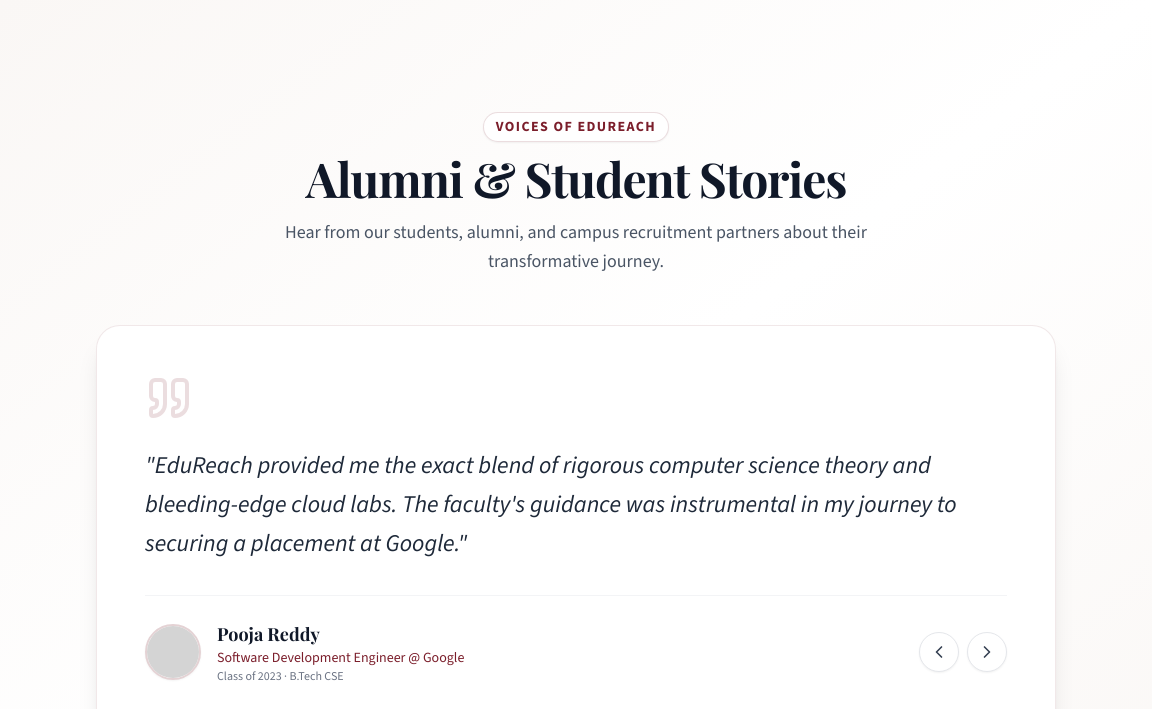
Test: QuotesSection › allows manual navigation via next and prev buttons
Check: the heading "Pooja Reddy" is shown, box [217,622,320,646]
Click the button named "Next testimonial". click: [987, 652]
box: [967,632,1007,672]
Wait 150 ms
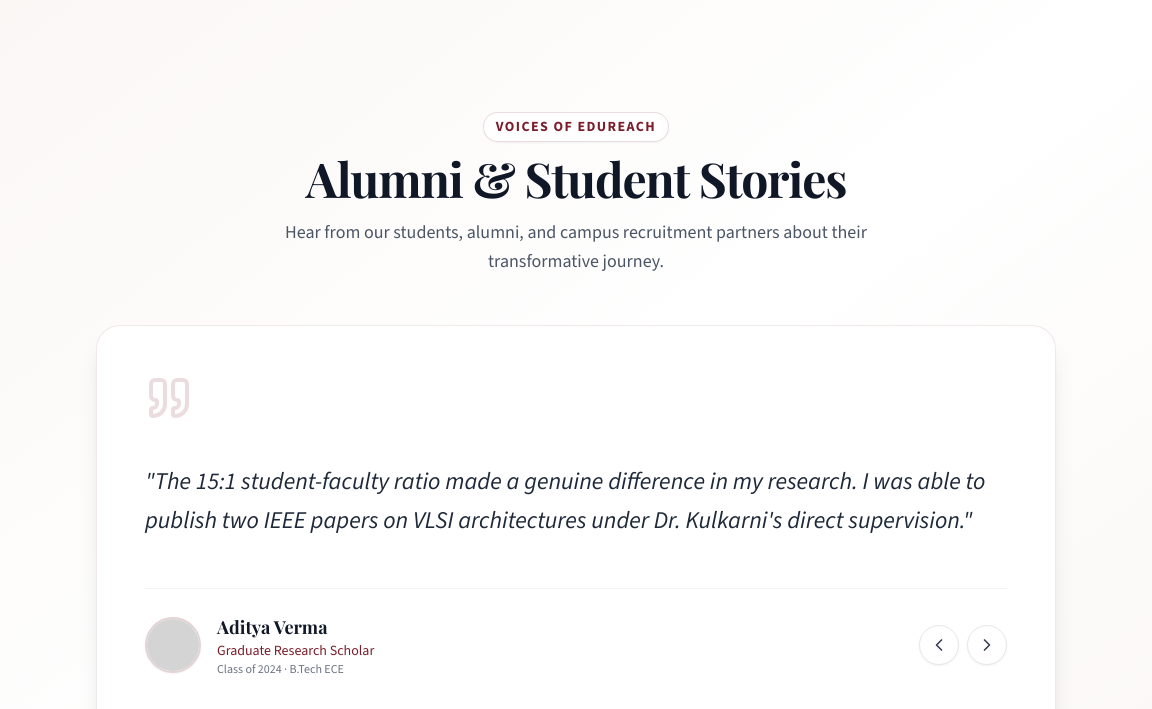
Check: the heading "Aditya Verma" is shown, box [217,614,328,638]
Click the button named "Previous testimonial". click: [939, 644]
box: [919,624,959,664]
Wait 150 ms
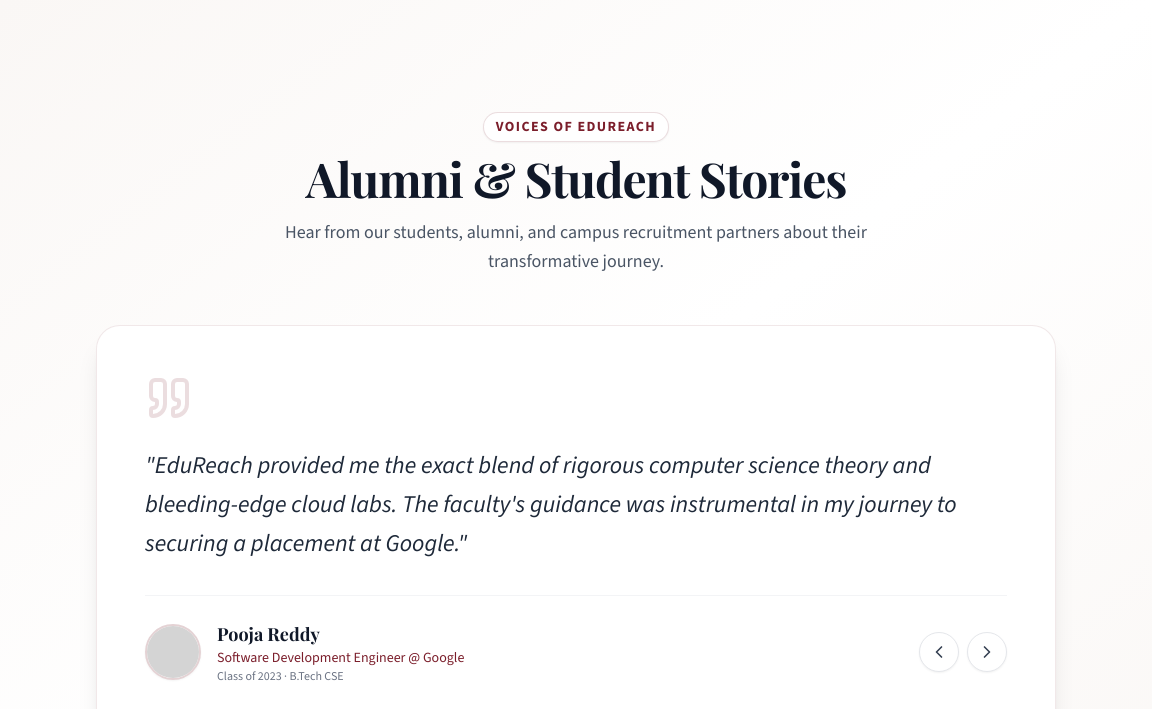
Check: the heading "Pooja Reddy" is shown, box [217,622,320,646]
